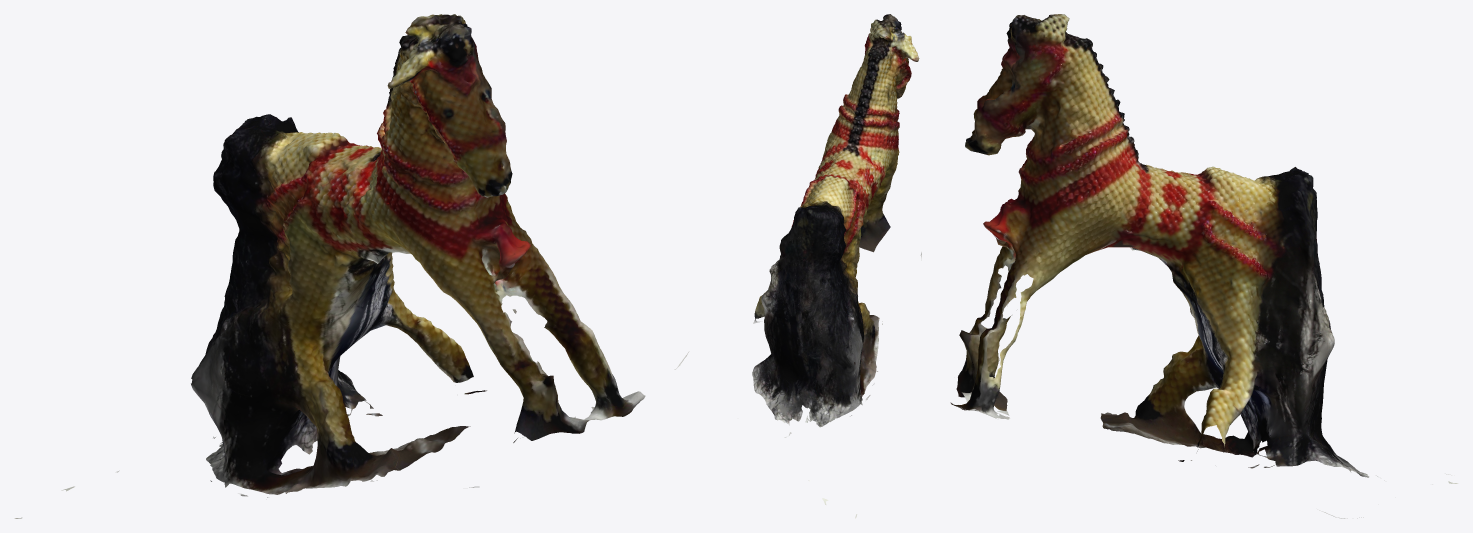
Rendered from 3Ddata.glb.
3 renders of one model, left to right at view 1: azimuth 30°, elevation 25°; view 2: azimuth 150°, elevation 25°; view 3: azimuth 270°, elevation 25°, orthographic. The views are drawn at different scales.
Visible parts, largest first — view 1: 995f3cc9-56ef-4ad0-9640-1a55fc0cff5c; view 2: 995f3cc9-56ef-4ad0-9640-1a55fc0cff5c; view 3: 995f3cc9-56ef-4ad0-9640-1a55fc0cff5c.
Part boxes in pixels (x1,y1,x2,y2): 995f3cc9-56ef-4ad0-9640-1a55fc0cff5c: (14, 14, 645, 518); 995f3cc9-56ef-4ad0-9640-1a55fc0cff5c: (674, 14, 921, 518); 995f3cc9-56ef-4ad0-9640-1a55fc0cff5c: (950, 14, 1458, 518).
Size of the model in its own units: 0.5878 by 0.9676 by 0.8241.
1 material, 1 textured.
